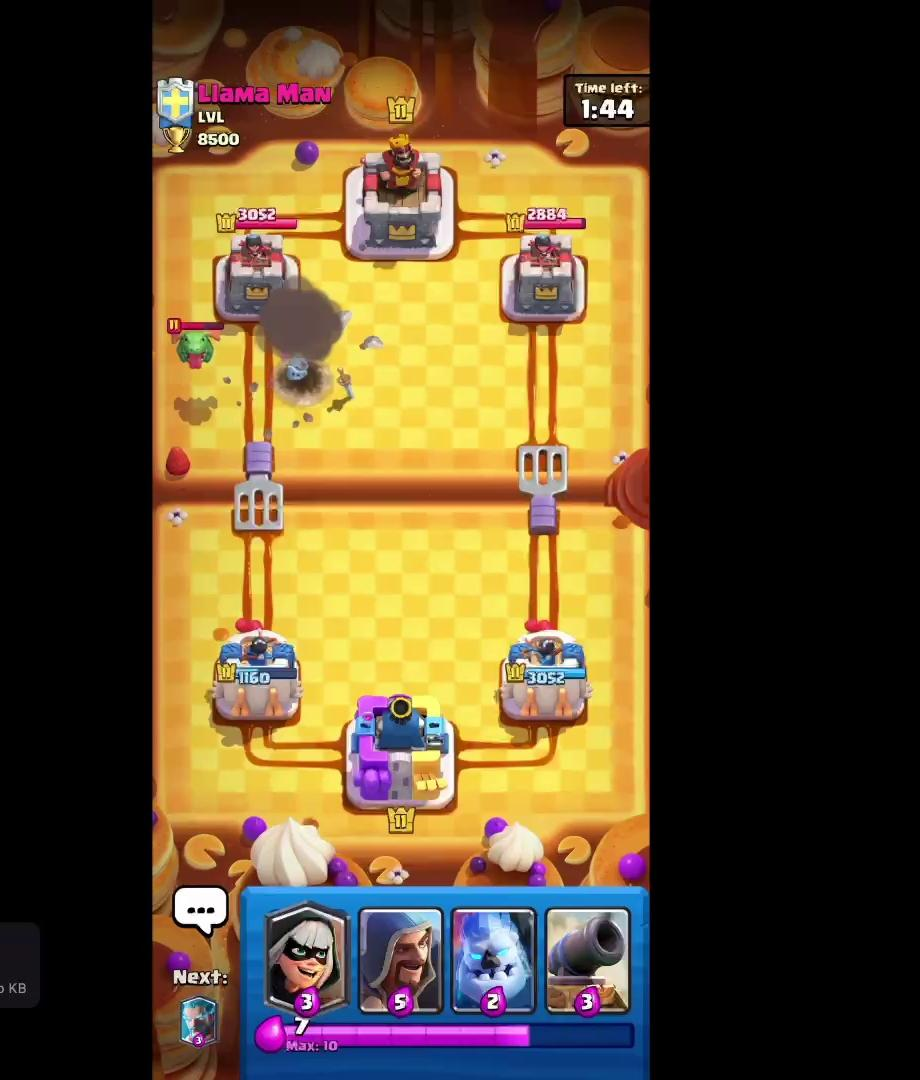Baby Dragon: (167, 299, 231, 380)
